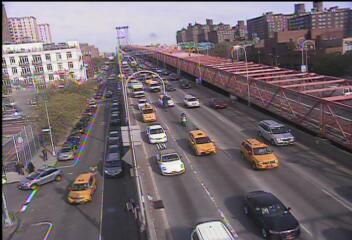neg: (35, 122, 50, 142), (26, 93, 39, 110), (63, 58, 73, 71), (53, 61, 59, 69)
pos: (37, 146, 50, 162), (16, 161, 27, 176)
